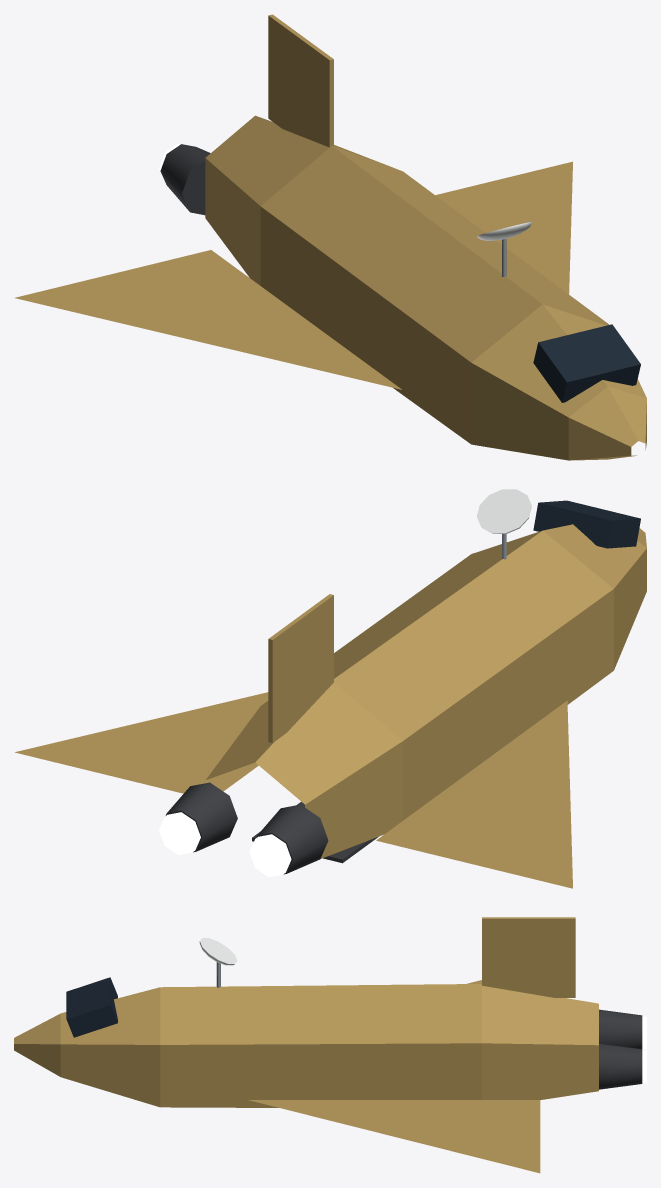
Rendered from space_ship_shuttle_mk7.glb.
3 renders of one model, top to bottom at view 1: azimuth 30°, elevation 25°; view 2: azimuth 150°, elevation 25°; view 3: azimuth 270°, elevation 25°, orthographic. The views are drawn at different scales.
Visible parts, largest first — view 1: body, engine_1, antenna_0; view 2: body, engine_1, engine_0, antenna_0; view 3: body, engine_0, engine_1, antenna_0.
Boxes of the visible parts, bbox=[...] form: body: bbox=[15, 14, 646, 460]; engine_1: bbox=[159, 143, 210, 215]; antenna_0: bbox=[477, 222, 531, 276]; body: bbox=[15, 500, 646, 888]; engine_1: bbox=[249, 804, 328, 877]; engine_0: bbox=[159, 782, 237, 855]; antenna_0: bbox=[477, 489, 531, 559]; body: bbox=[14, 917, 598, 1173]; engine_0: bbox=[599, 1043, 646, 1089]; engine_1: bbox=[599, 1009, 646, 1048]; antenna_0: bbox=[199, 938, 237, 987].
Size of what is drawn, in the model's own units: 13.04 by 5.18 by 16.75.
